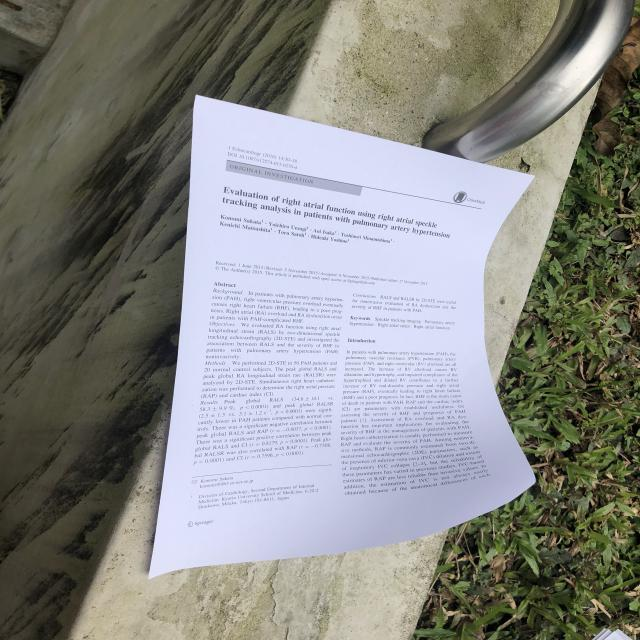document: (150, 96, 533, 576)
